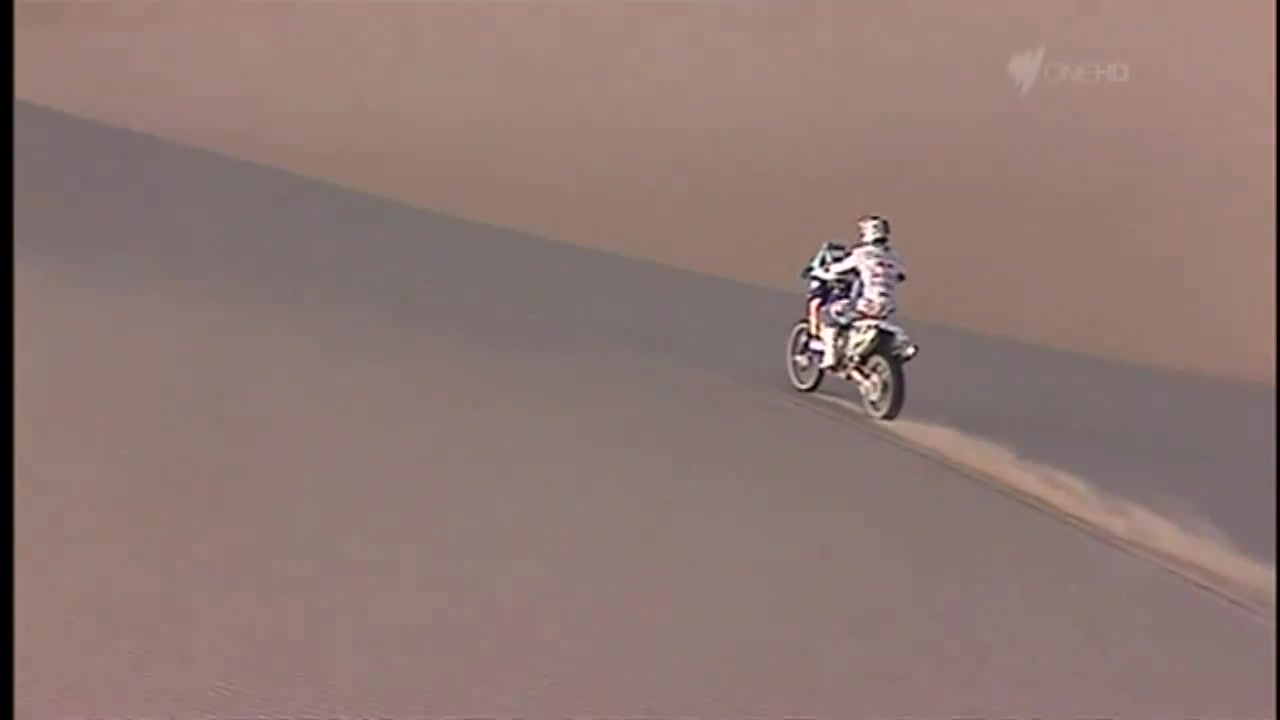motorbike: (783, 241, 919, 424)
